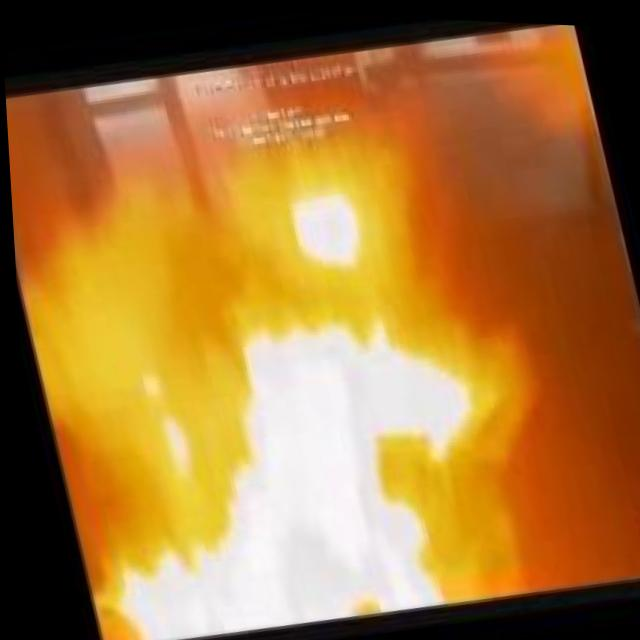fire: (27, 245, 570, 640), (257, 160, 386, 293)
